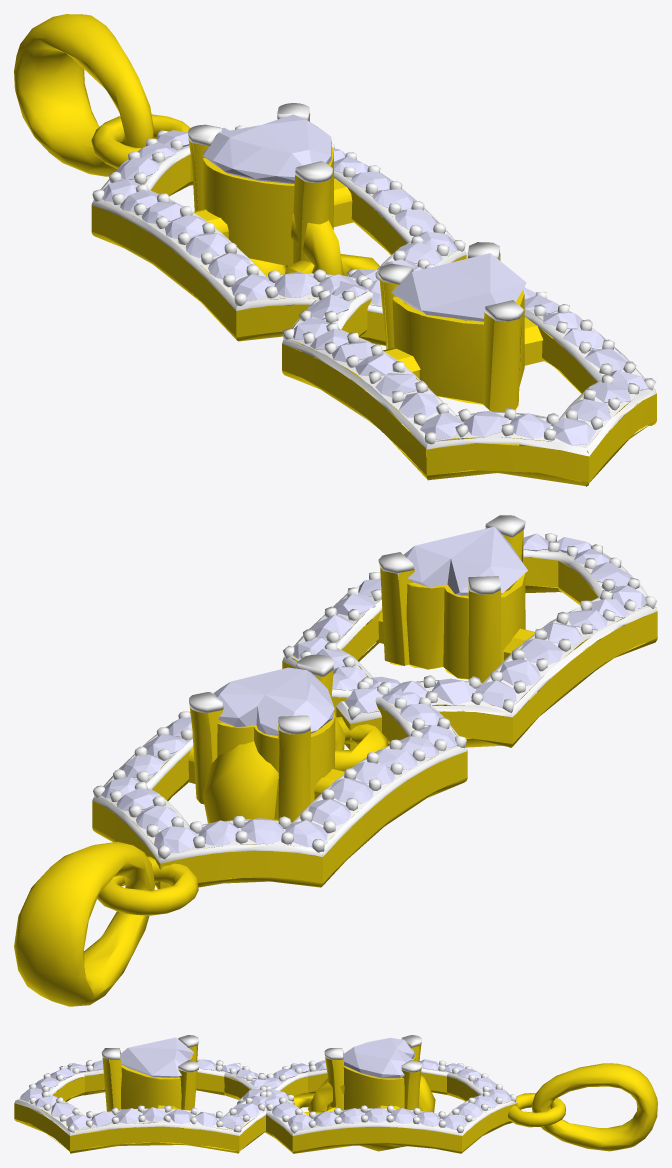
The model's file is DPN-D000675692.glb.
3 renders of one model, top to bottom at view 1: azimuth 30°, elevation 25°; view 2: azimuth 150°, elevation 25°; view 3: azimuth 270°, elevation 25°, orthographic. The views are drawn at different scales.
Parts seen in each view (by area): view 1: highPolyMesh, lowPolyMesh; view 2: highPolyMesh, lowPolyMesh; view 3: highPolyMesh, lowPolyMesh.
Part boxes in pixels (box(x1,y1,x2,y2)): highPolyMesh: box(14, 14, 466, 345); lowPolyMesh: box(249, 213, 656, 486); highPolyMesh: box(14, 654, 467, 1006); lowPolyMesh: box(202, 515, 657, 823); highPolyMesh: box(237, 1035, 657, 1153); lowPolyMesh: box(14, 1035, 435, 1153).
Bounding box in the file's own units: 0.00766 × 0.00539 × 0.0311.
